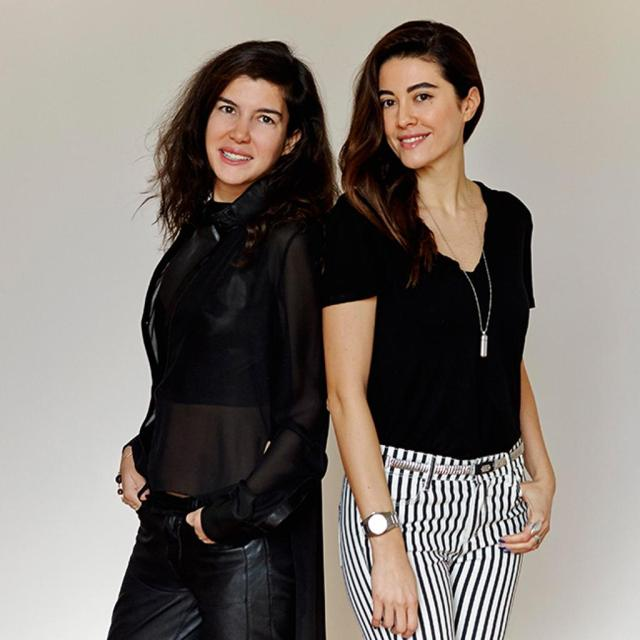Face: (373, 47, 482, 184), (200, 78, 314, 195)
